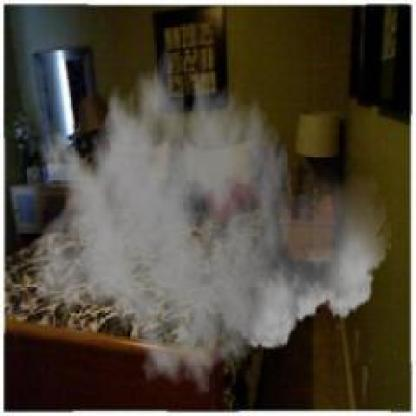Smoke: (29, 30, 392, 395)
